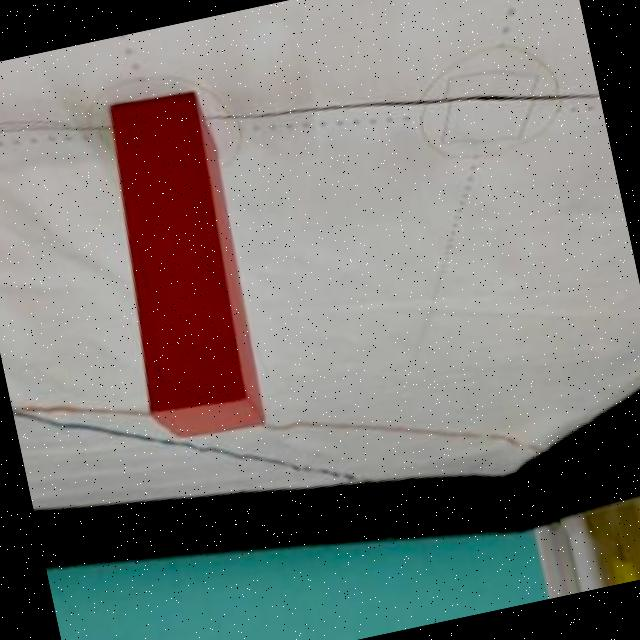redbox: (86, 87, 274, 450)
